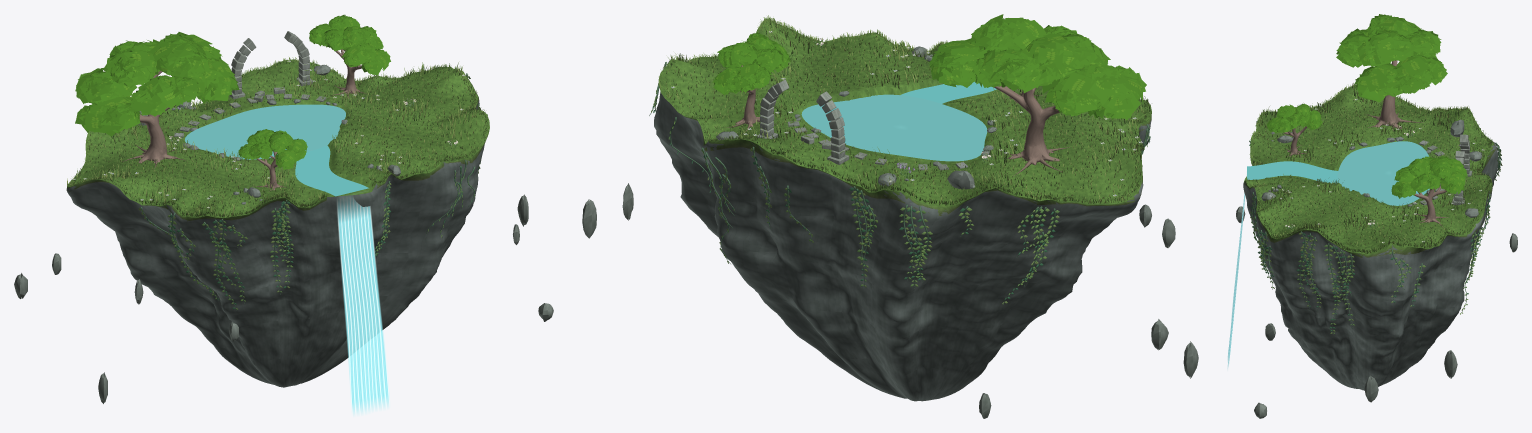
File: nguyet-ho.glb
The picture shows the model from 3 angles, left to right: view 1: azimuth 30°, elevation 25°; view 2: azimuth 150°, elevation 25°; view 3: azimuth 270°, elevation 25°; orthographic projection. The views are drawn at different scales.
Visible parts, largest first — view 1: Moon crescent Cliff, Moon crescent Ground, Moon crescent tree canopy, Moon crescent low meadow blades, Moon crescent fall, Moon crescent stillwater, Moon crescent high meadow blades, Moon crescent tree canopy.001, Moon crescent botanical vine leaves, Moon crescent rim meadow blades, Moon crescent tree canopy.002, Moon crescent winding river (+3 smaller); view 2: Moon crescent Cliff, Moon crescent Ground, Moon crescent tree canopy, Moon crescent low meadow blades, Moon crescent stillwater, Moon crescent high meadow blades, Moon crescent botanical vine leaves, Moon crescent tree canopy.001, Moon crescent trailing vine stems, Moon crescent rim meadow blades, Moon crescent irregular turf rim, Moon crescent tree wood (+1 smaller); view 3: Moon crescent Cliff, Moon crescent Ground, Moon crescent tree canopy, Moon crescent low meadow blades, Moon crescent stillwater, Moon crescent high meadow blades, Moon crescent tree canopy.001, Moon crescent botanical vine leaves, Moon crescent trailing vine stems, Moon crescent rim meadow blades, Moon crescent winding river, Moon crescent tree canopy.002 (+6 smaller).
Part boxes in pixels (x1,y1,x2,y2): Moon crescent Cliff: [66, 85, 484, 387]; Moon crescent Ground: [67, 59, 489, 218]; Moon crescent tree canopy: [75, 32, 239, 136]; Moon crescent low meadow blades: [67, 59, 488, 216]; Moon crescent fall: [337, 197, 389, 415]; Moon crescent stillwater: [185, 104, 345, 159]; Moon crescent high meadow blades: [67, 62, 479, 216]; Moon crescent tree canopy.001: [309, 14, 390, 75]; Moon crescent botanical vine leaves: [138, 75, 481, 309]; Moon crescent rim meadow blades: [67, 57, 488, 217]; Moon crescent tree canopy.002: [238, 129, 307, 169]; Moon crescent winding river: [295, 145, 368, 196]; Moon crescent Cliff: [654, 61, 1151, 401]; Moon crescent Ground: [658, 19, 1151, 206]; Moon crescent tree canopy: [929, 14, 1146, 120]; Moon crescent low meadow blades: [659, 18, 1150, 204]; Moon crescent stillwater: [801, 94, 987, 161]; Moon crescent high meadow blades: [659, 16, 1148, 203]; Moon crescent botanical vine leaves: [651, 65, 1149, 304]; Moon crescent tree canopy.001: [712, 32, 790, 95]; Moon crescent trailing vine stems: [649, 62, 1150, 304]; Moon crescent rim meadow blades: [659, 15, 1150, 205]; Moon crescent irregular turf rim: [678, 112, 1151, 215]; Moon crescent tree wood: [994, 85, 1060, 165]; Moon crescent Cliff: [1243, 142, 1497, 390]; Moon crescent Ground: [1244, 85, 1492, 254]; Moon crescent tree canopy: [1336, 14, 1447, 102]; Moon crescent low meadow blades: [1246, 85, 1492, 252]; Moon crescent stillwater: [1337, 141, 1429, 205]; Moon crescent high meadow blades: [1251, 83, 1491, 249]; Moon crescent tree canopy.001: [1391, 156, 1467, 198]; Moon crescent botanical vine leaves: [1249, 124, 1502, 333]; Moon crescent trailing vine stems: [1249, 121, 1500, 333]; Moon crescent rim meadow blades: [1245, 84, 1492, 253]; Moon crescent winding river: [1247, 161, 1338, 183]; Moon crescent tree canopy.002: [1267, 103, 1322, 132].
Size of the model in its own units: 46.6 by 32.62 by 27.75.
10 materials, 6 textured.
